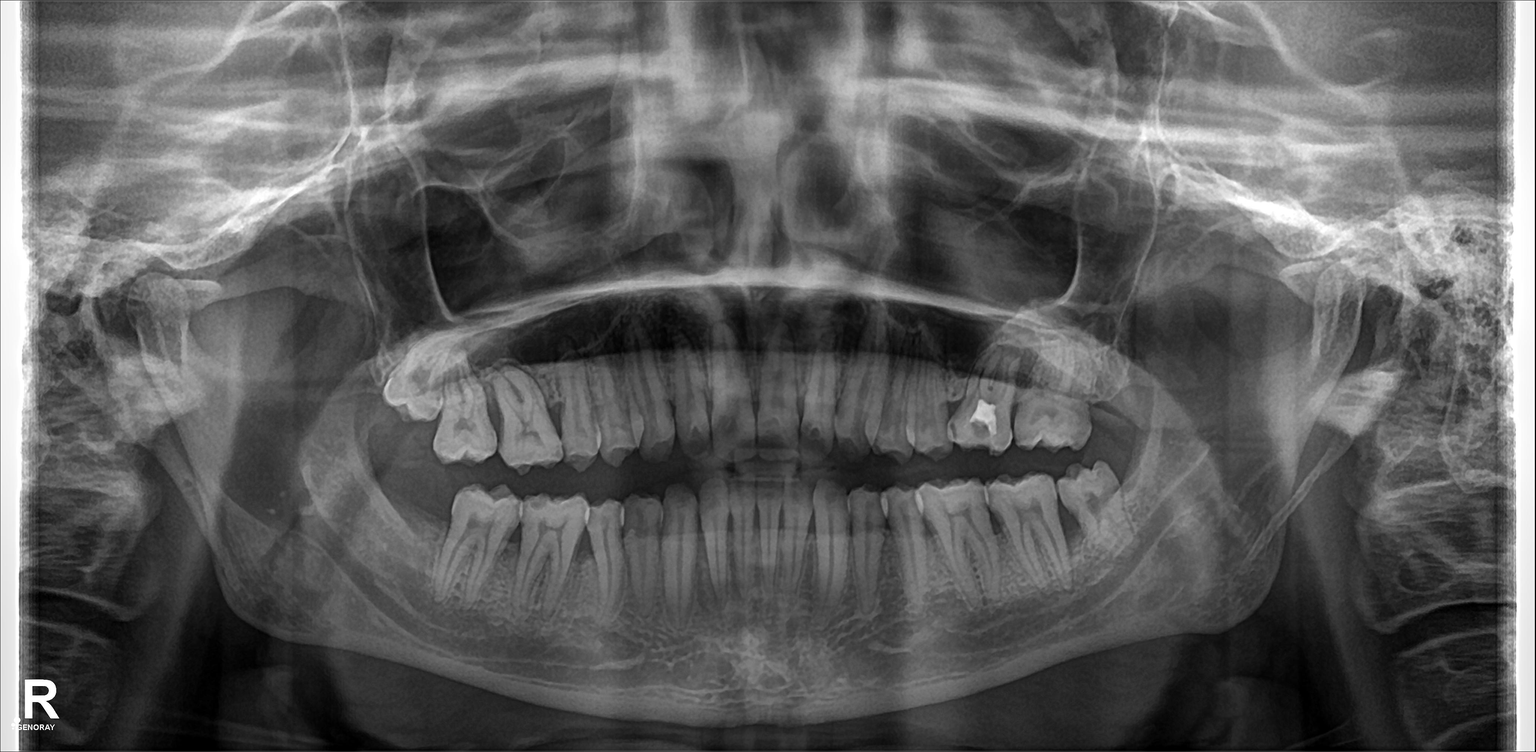Dental Caries: (670, 424, 715, 459), (970, 413, 997, 442)
Impacted Third Molar: (380, 359, 447, 426)
Missing Tooth: (363, 450, 404, 575), (404, 463, 445, 573), (1088, 357, 1132, 454)
